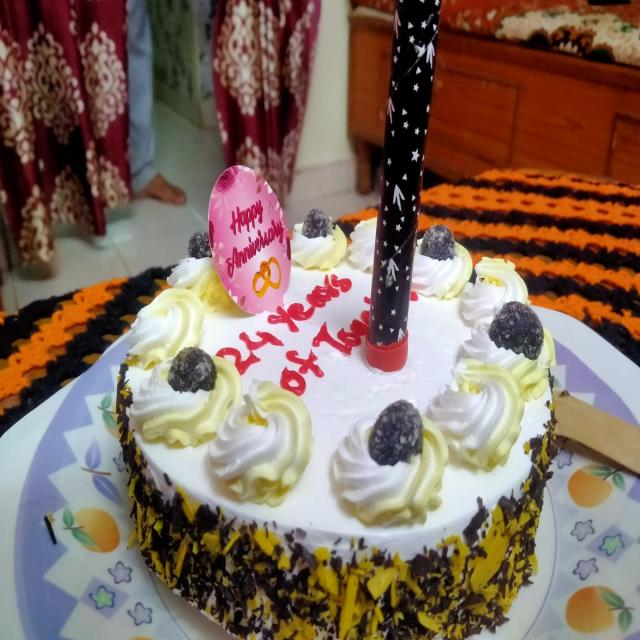Cake: (83, 165, 571, 640)
